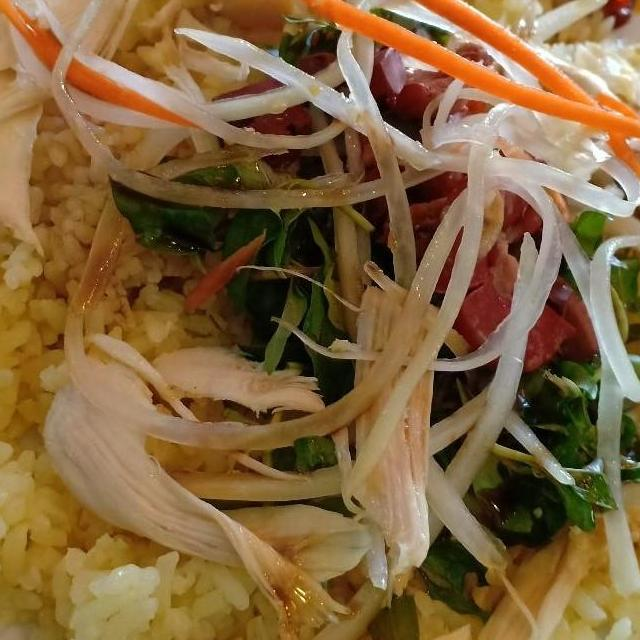com: (0, 197, 197, 640), (10, 517, 299, 640), (537, 391, 640, 640)
com ga: (0, 0, 640, 640)
rau ram: (388, 354, 640, 630), (100, 152, 360, 417), (506, 199, 640, 357)
thit ga: (42, 336, 383, 640), (0, 0, 163, 266), (426, 445, 637, 640), (330, 271, 458, 584)
